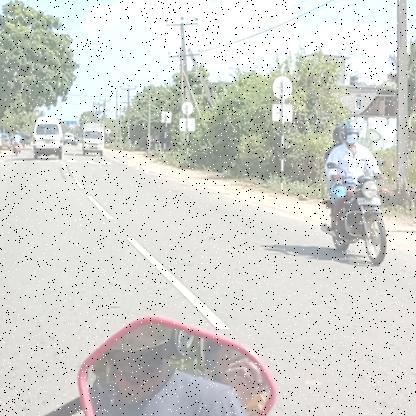motorcycle: (316, 172, 396, 268)
